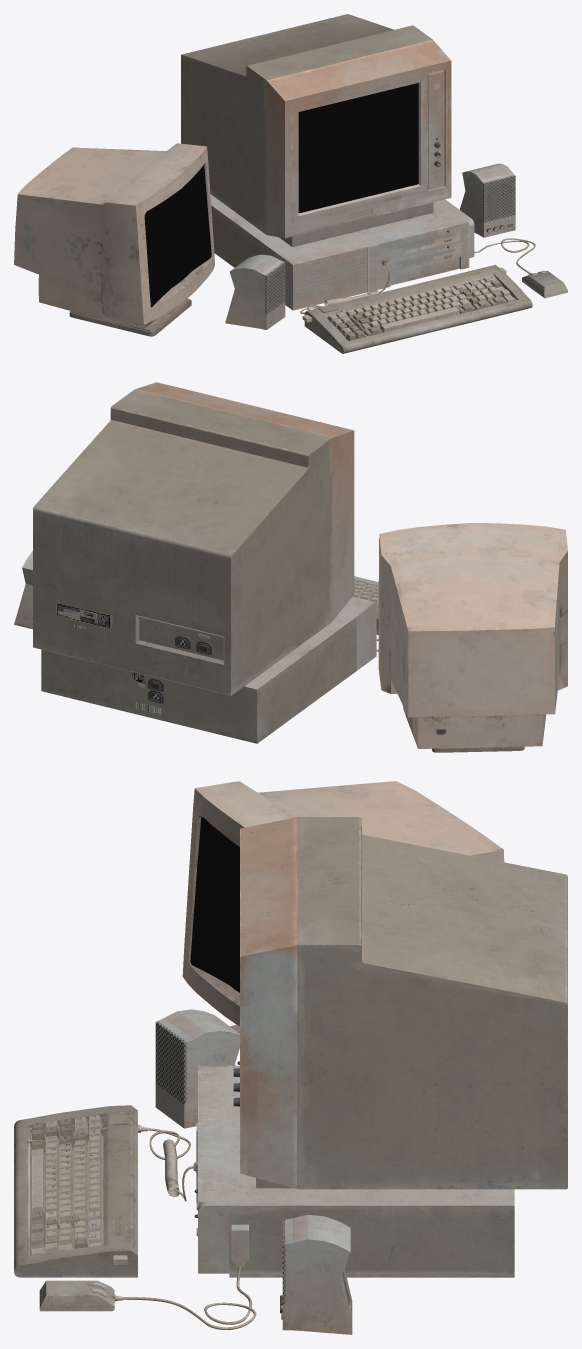
Rendered from computer.glb.
3 views of the same model, one above another, from view 1: azimuth 30°, elevation 25°; view 2: azimuth 150°, elevation 25°; view 3: azimuth 270°, elevation 25° (orthographic). The views are drawn at different scales.
Visible parts, largest first — view 1: SM_Computer_A.mo, SM_Computer_B_Monitor.mo_MI_Computer_B_0.001, Plane, SM_Computer_A.mo_MI_Computer_A2_0.002, Plane.001; view 2: SM_Computer_A.mo, SM_Computer_B_Monitor.mo_MI_Computer_B_0.001; view 3: SM_Computer_A.mo, SM_Computer_B_Monitor.mo_MI_Computer_B_0.001, Plane.001.
Boxes of the visible parts, left/top/right/bottom form: SM_Computer_A.mo: left=181, top=14, right=567, bottom=353; SM_Computer_B_Monitor.mo_MI_Computer_B_0.001: left=14, top=143, right=214, bottom=336; Plane: left=298, top=83, right=418, bottom=213; SM_Computer_A.mo_MI_Computer_A2_0.002: left=285, top=60, right=450, bottom=237; Plane.001: left=144, top=165, right=211, bottom=307; SM_Computer_A.mo: left=14, top=382, right=378, bottom=743; SM_Computer_B_Monitor.mo_MI_Computer_B_0.001: left=378, top=523, right=567, bottom=752; SM_Computer_A.mo: left=14, top=817, right=567, bottom=1334; SM_Computer_B_Monitor.mo_MI_Computer_B_0.001: left=182, top=781, right=504, bottom=1033; Plane.001: left=190, top=817, right=239, bottom=992.
Size of the model in its own units: 1.4 by 0.5883 by 0.9062.
5 materials, 3 textured.
